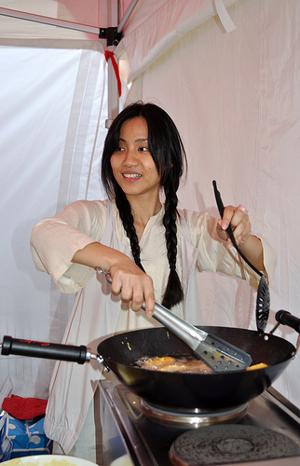person: (29, 102, 276, 466)
